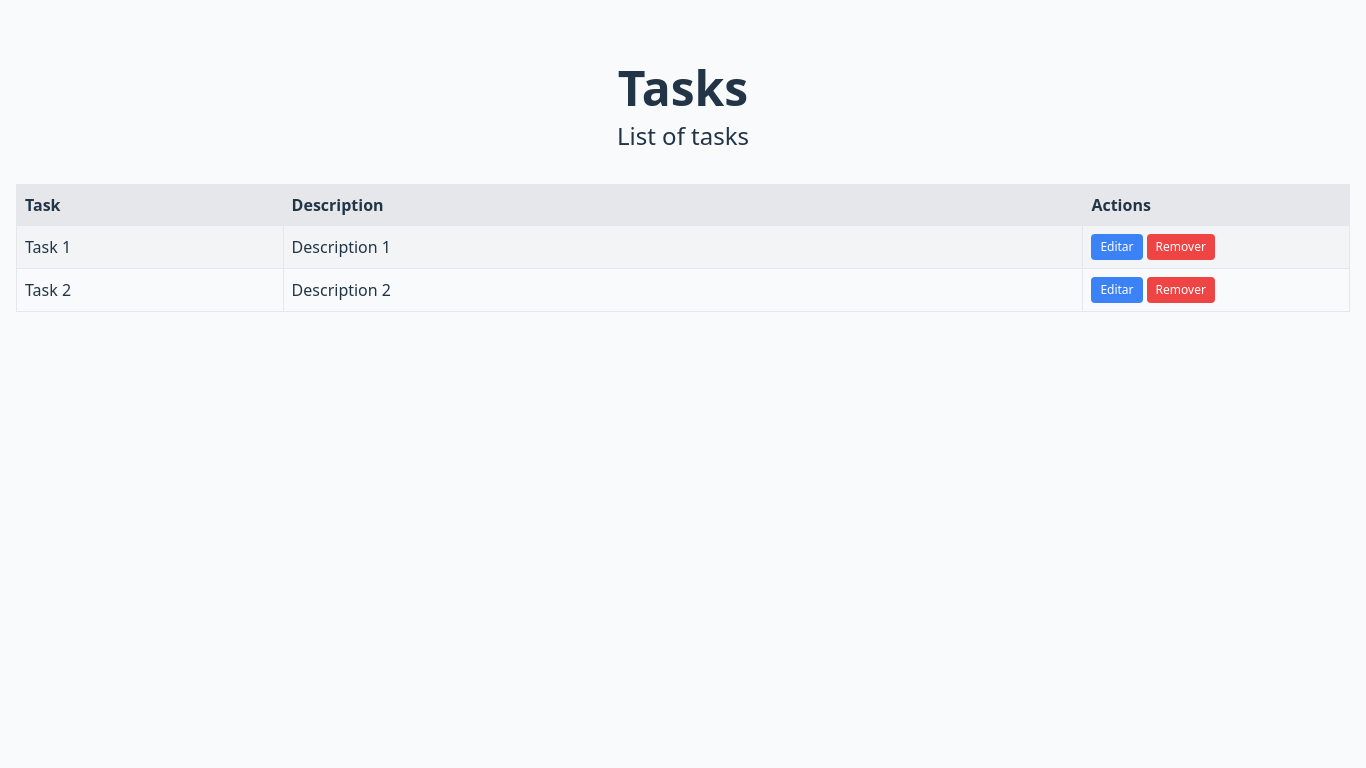
Test: Tasks Component - Delete Modal › should close modal when cancel button is clicked
Expected: the text "Task 1" is shown, [16,226,283,268]
Note: Open modal
What coordinates should you click on to do the following:
click the button "Remover" in the row of "Task 1"
I would click on:
 (1181, 247)
Its box is [1147,234,1215,260].
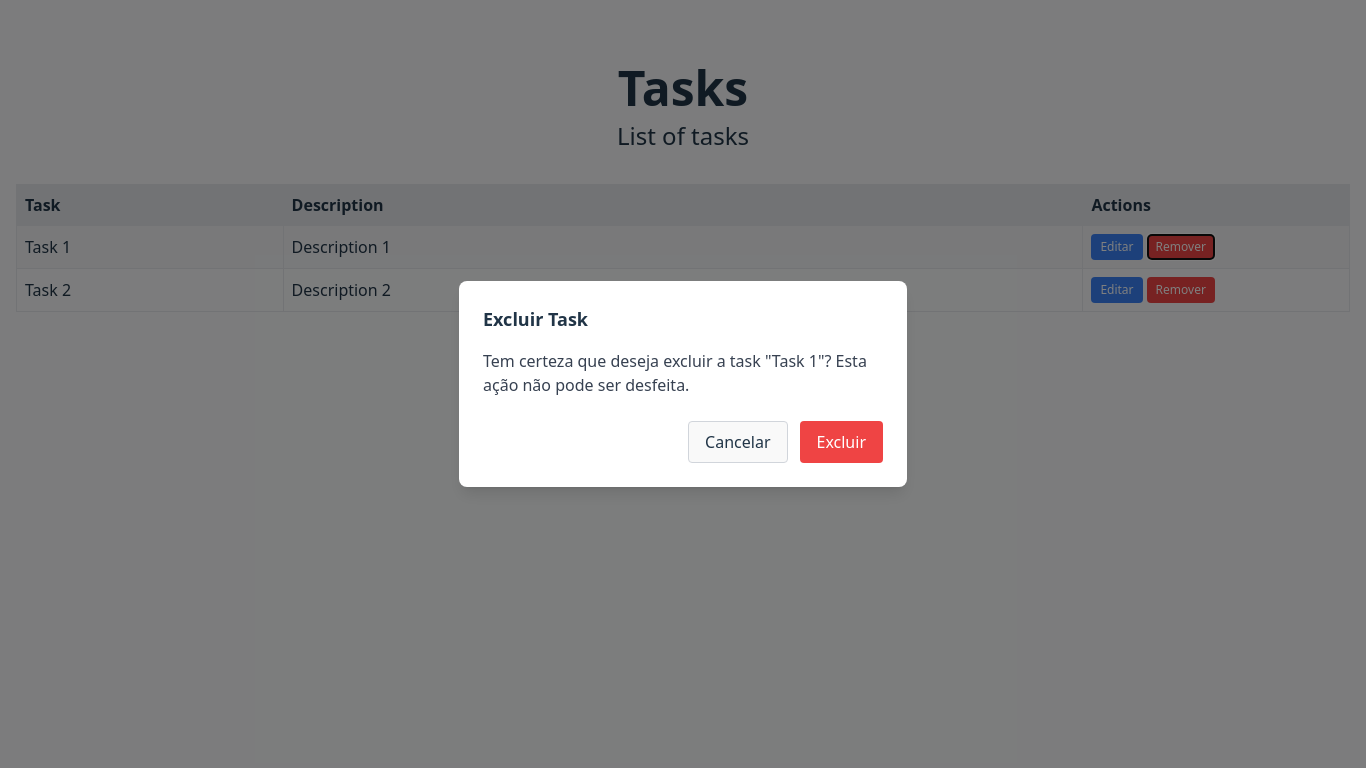
Note: Cancel deletion
What coordinates should you click on to do the following:
click the button "Cancelar"
I would click on:
 (738, 442)
Its box is [688,421,788,463].
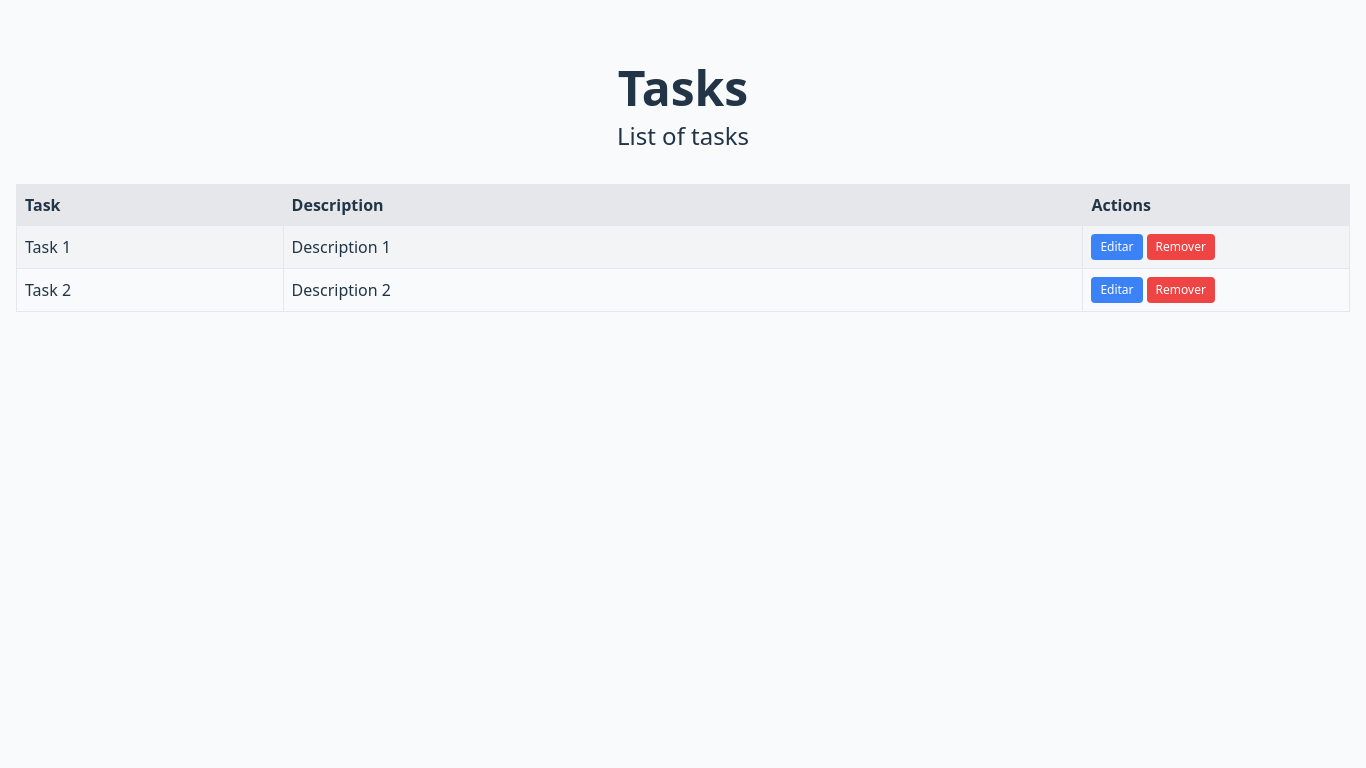
Expected: the heading "Excluir Task" is gone
